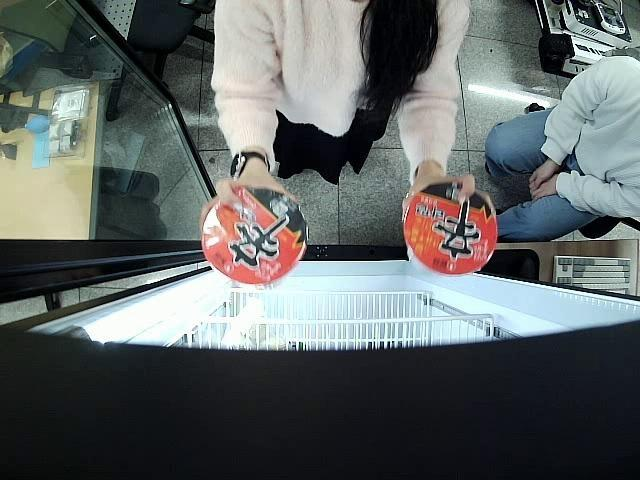01_ShinRamen_L: (202, 189, 307, 284), (404, 184, 498, 276)
